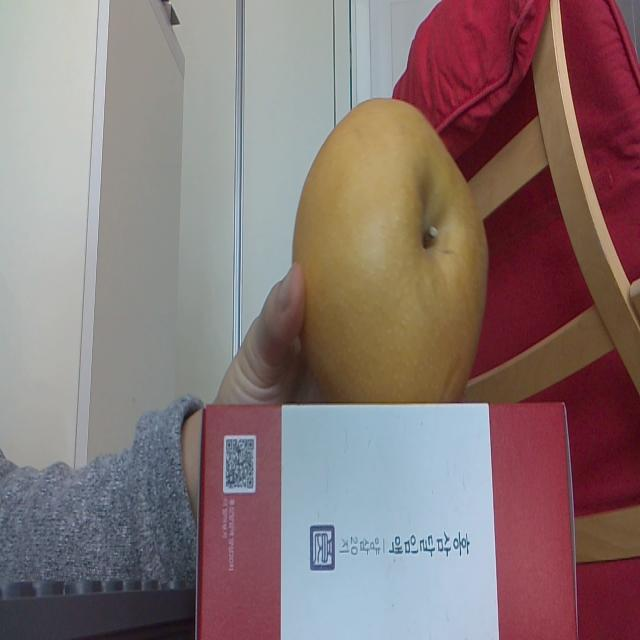pear: (293, 96, 491, 402)
